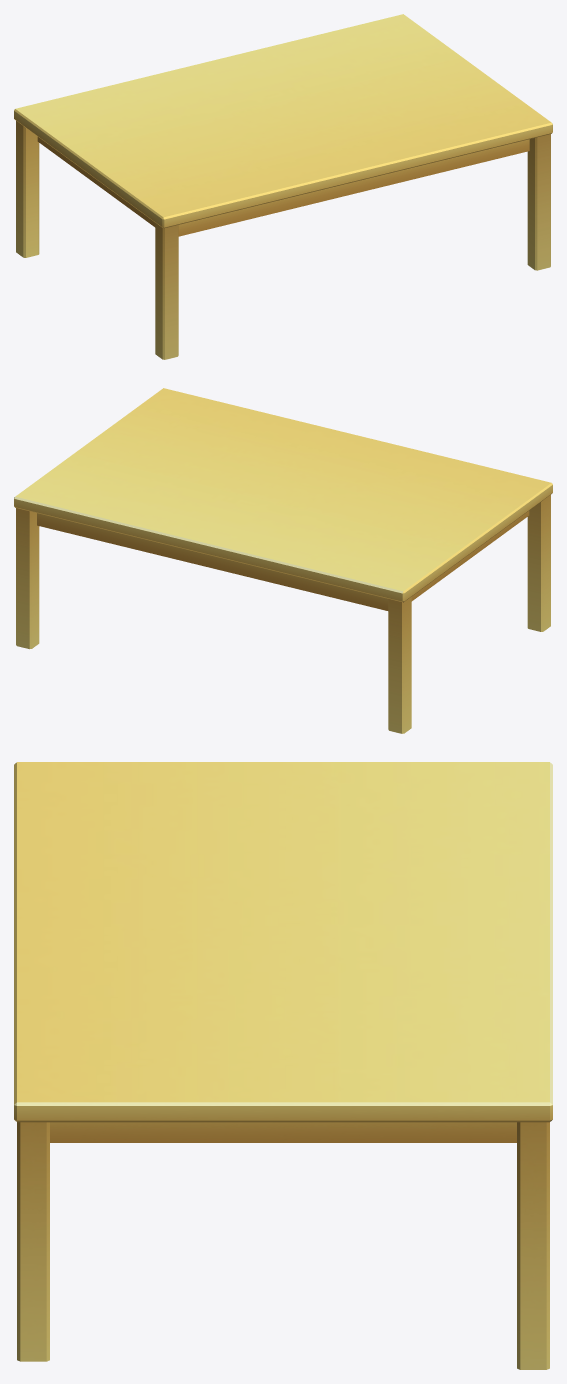
File: kitchentable.fbx
The picture shows the model from 3 angles, top to bottom: view 1: azimuth 30°, elevation 25°; view 2: azimuth 150°, elevation 25°; view 3: azimuth 270°, elevation 25°; orthographic projection. The views are drawn at different scales.
Visible parts, largest first — view 1: kitchentable; view 2: kitchentable; view 3: kitchentable.
Part boxes in pixels (<box>): kitchentable: <box>14,14,552,359</box>; kitchentable: <box>14,388,552,733</box>; kitchentable: <box>14,762,552,1369</box>.
Bounding box in the file's own units: 5.71 × 2.08 × 3.8.
